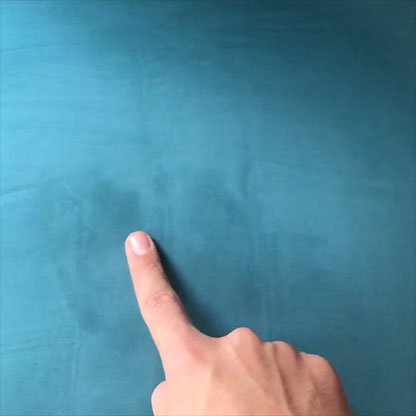fingertip: (116, 223, 173, 269)
